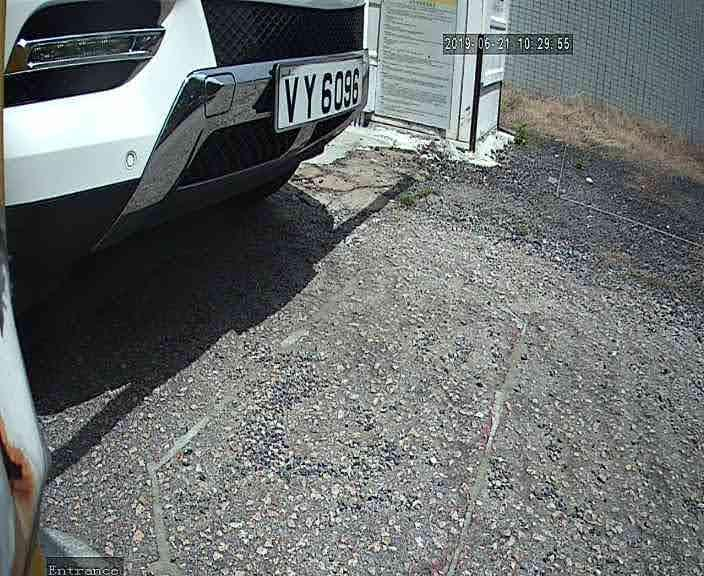bottom_left_lp: (273, 124, 283, 133)
bottom_right_lp: (357, 97, 363, 105)
top_left_lp: (276, 63, 285, 75)
top_right_lp: (358, 53, 366, 64)
